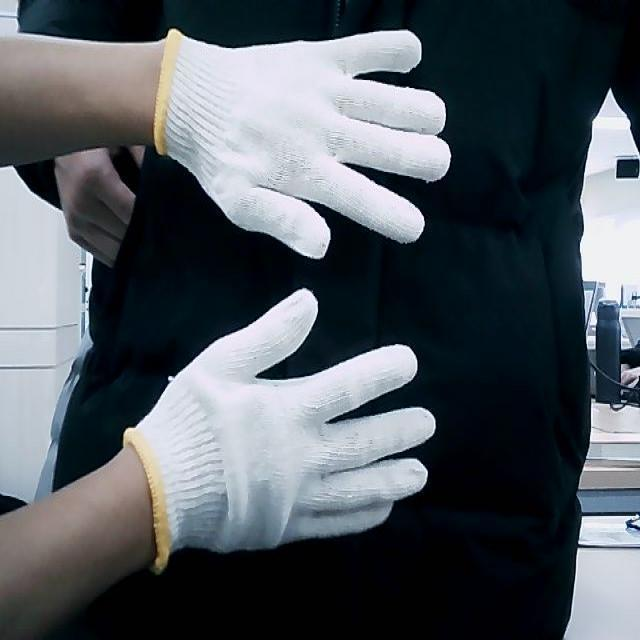gloves: (120, 285, 436, 575), (152, 27, 452, 264)
